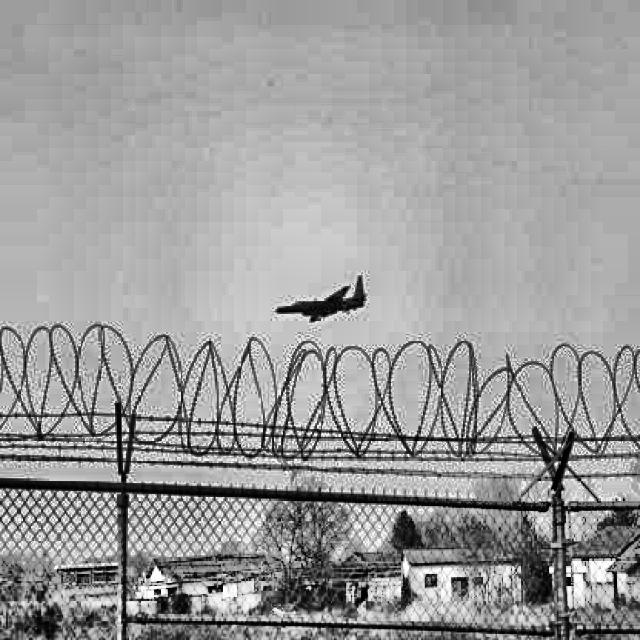U2: (276, 275, 367, 322)
